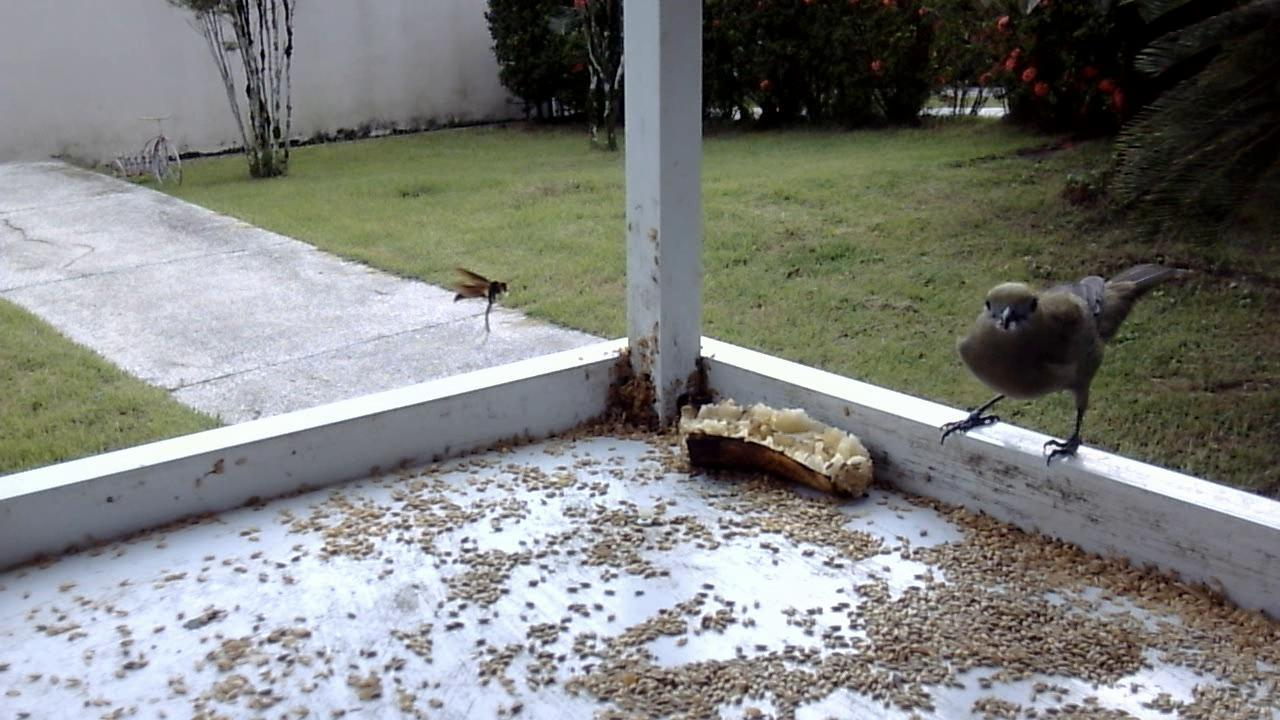sanhaco_do_coqueiro: (931, 252, 1183, 478)
